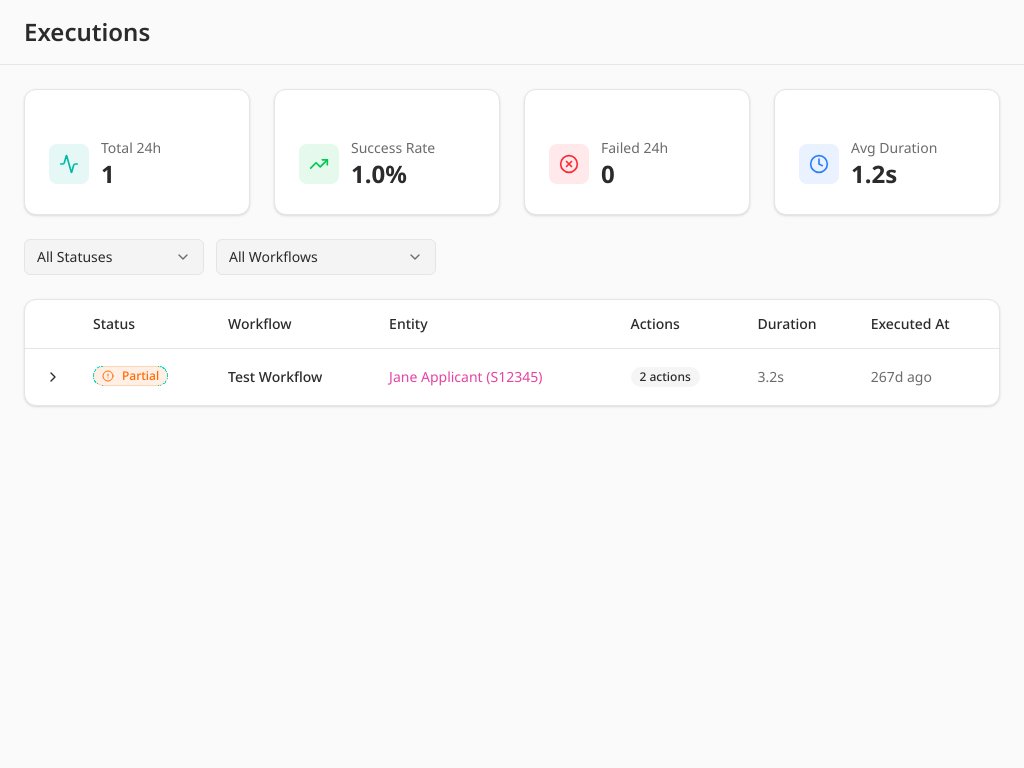
Test case: WorkflowExecutionsPage › renders action details from execution results
Expected: the text "Test Workflow" is shown, [216,348,377,404]
Expected: the link "Jane Applicant (S12345)" is shown, [389,366,542,386]
What coordinates should you click on to do the following:
click the button named "expand row"
I would click on:
 (53, 376)
Its box is [37,360,69,392].
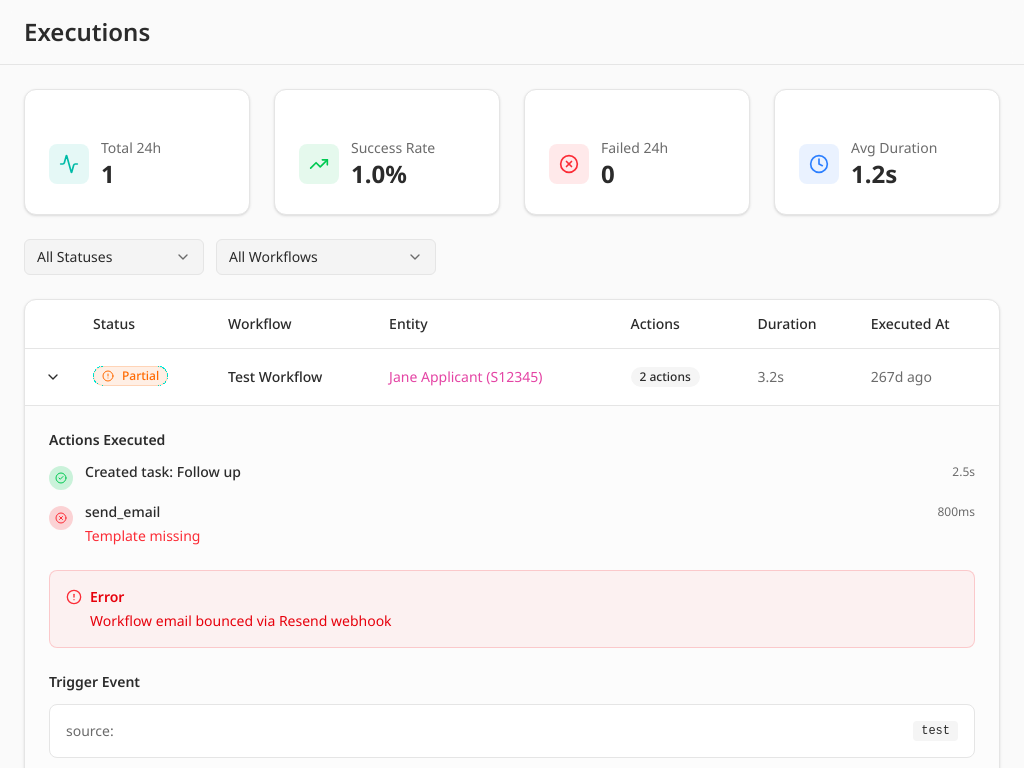
Expected: the heading "Actions Executed" is shown, [49,430,165,448]
Expected: the text "Created task: Follow up" is shown, [85,462,241,482]
Expected: the text "send_email" is shown, [85,502,160,522]
